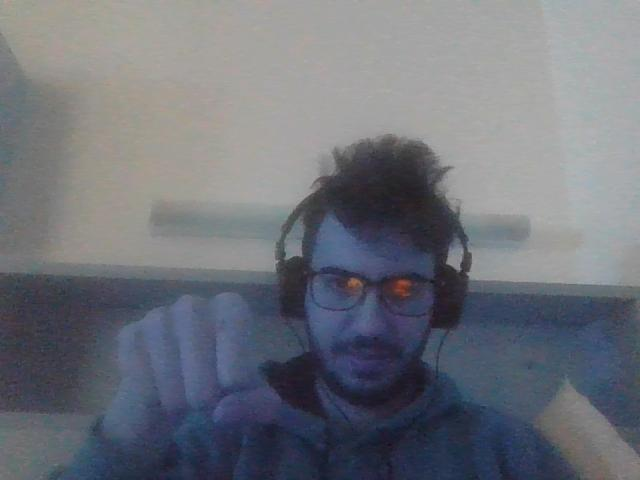yes: (115, 297, 289, 424)
